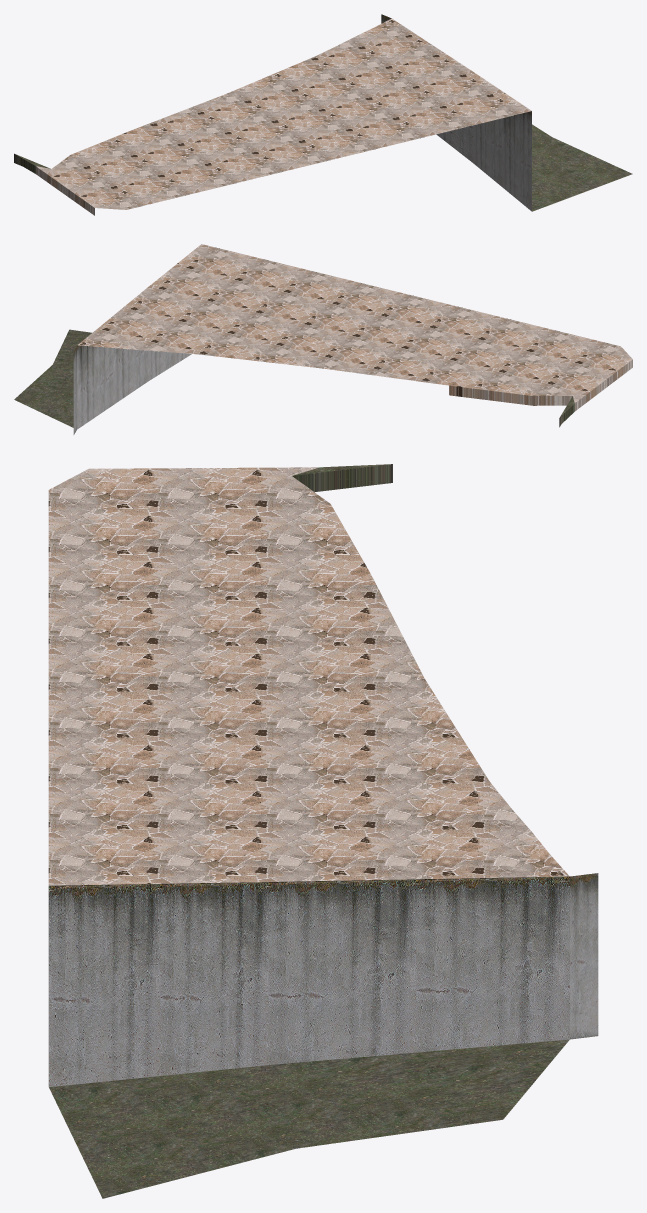
Rendered from lastbit_04_sfs.obj.
3 views of the same model, one above another, from view 1: azimuth 30°, elevation 25°; view 2: azimuth 150°, elevation 25°; view 3: azimuth 270°, elevation 25° (orthographic). The views are drawn at different scales.
Parts seen in each view (by area): view 1: lastbit_04_SFS; view 2: lastbit_04_SFS; view 3: lastbit_04_SFS.
Part boxes in pixels (left/top/right/bottom): lastbit_04_SFS: left=14, top=14, right=632, bottom=215; lastbit_04_SFS: left=14, top=244, right=632, bottom=434; lastbit_04_SFS: left=48, top=464, right=598, bottom=1198.
Size of the model in its own units: 116 by 20.49 by 50.62.
3 materials, 3 textured.
